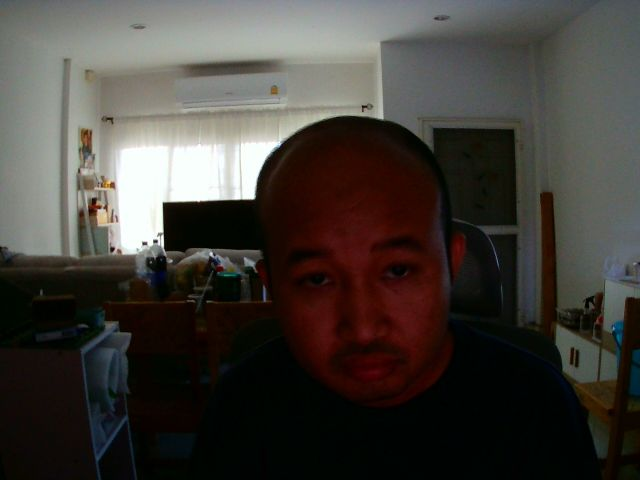face: (257, 111, 451, 403)
